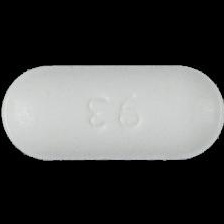0093-7471: (0, 0, 224, 224)
